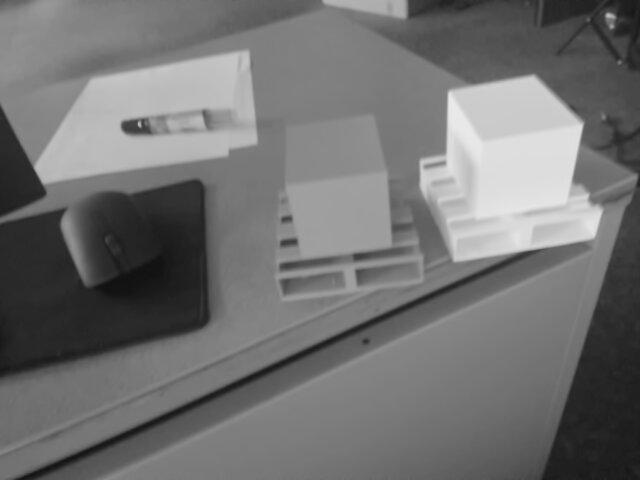grey pallet: (265, 111, 431, 302)
white pallet: (412, 70, 613, 266)
